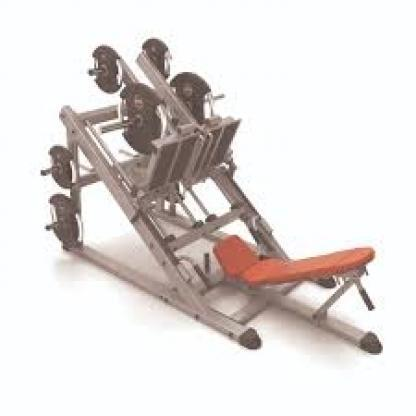leg press: (21, 31, 389, 371)
